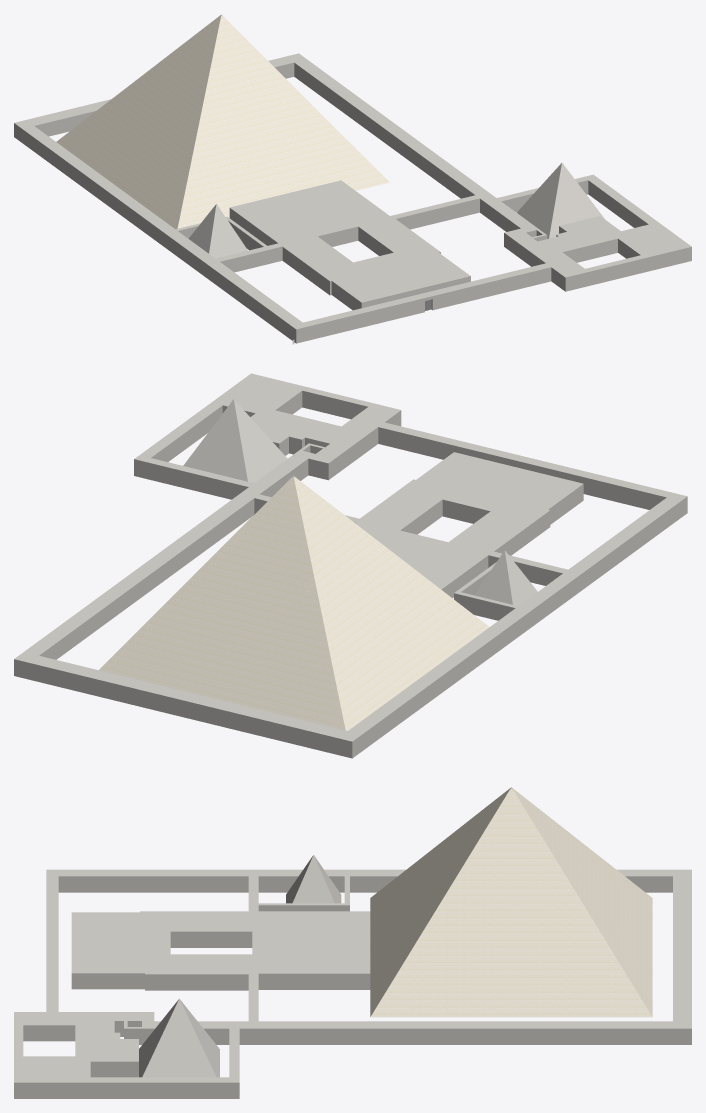
File: Djedkare_Isesi_Pyramid.glb
3 renders of one model, top to bottom at view 1: azimuth 30°, elevation 25°; view 2: azimuth 150°, elevation 25°; view 3: azimuth 270°, elevation 25°, orthographic. The views are drawn at different scales.
Visible parts, largest first — view 1: Mesh1 Model, Mesh2 Model; view 2: Mesh1 Model, Mesh2 Model; view 3: Mesh1 Model, Mesh2 Model.
Part boxes in pixels (box(x1,y1,x2,y2)): Mesh1 Model: box(14, 14, 691, 343); Mesh2 Model: box(188, 204, 247, 258); Mesh1 Model: box(14, 373, 687, 758); Mesh2 Model: box(474, 550, 537, 605); Mesh1 Model: box(14, 787, 691, 1098); Mesh2 Model: box(286, 855, 341, 903).
Bounding box in the file's own units: 142 × 52.5 × 189.
Materials: 4 (2 with a texture image).
